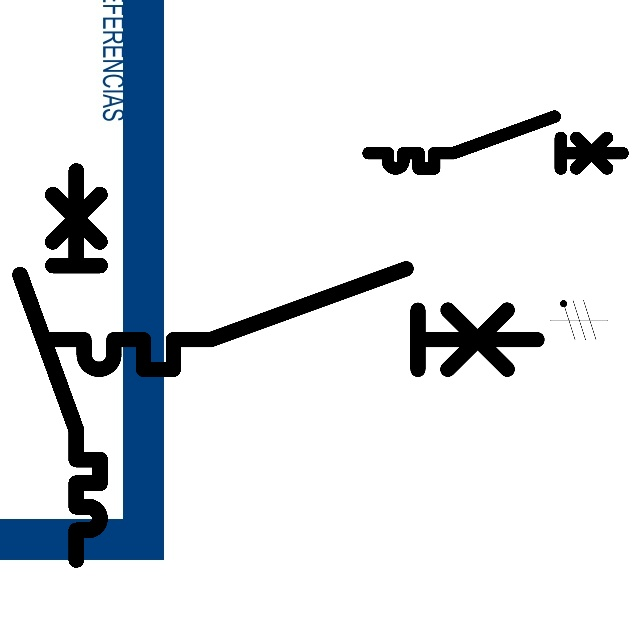interruptor_termomagnetico: (34, 256, 550, 382), (10, 161, 110, 570), (362, 110, 629, 175)
